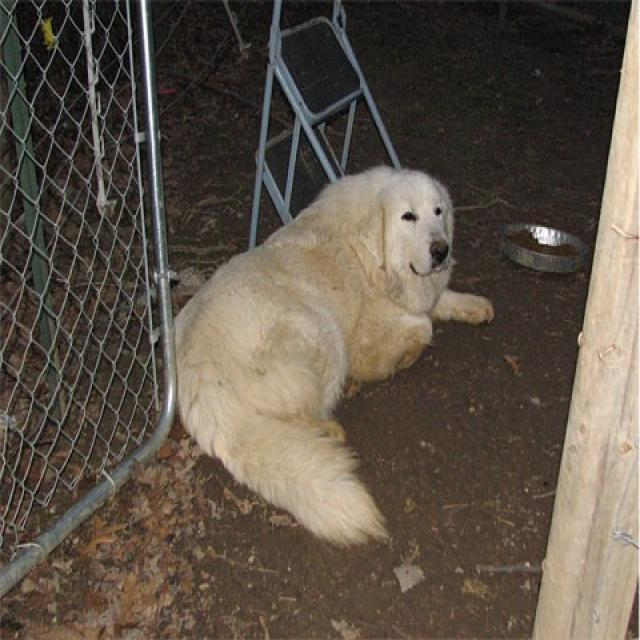dog-great_pyrenees: (167, 160, 503, 559)
